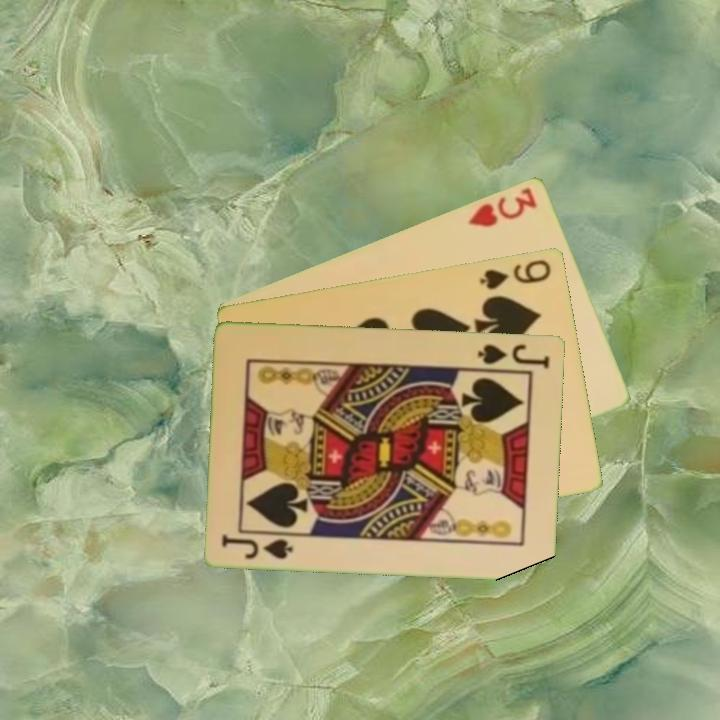3h: (465, 183, 540, 230)
9s: (476, 255, 554, 292)
Js: (219, 530, 297, 562), (474, 340, 553, 371)
